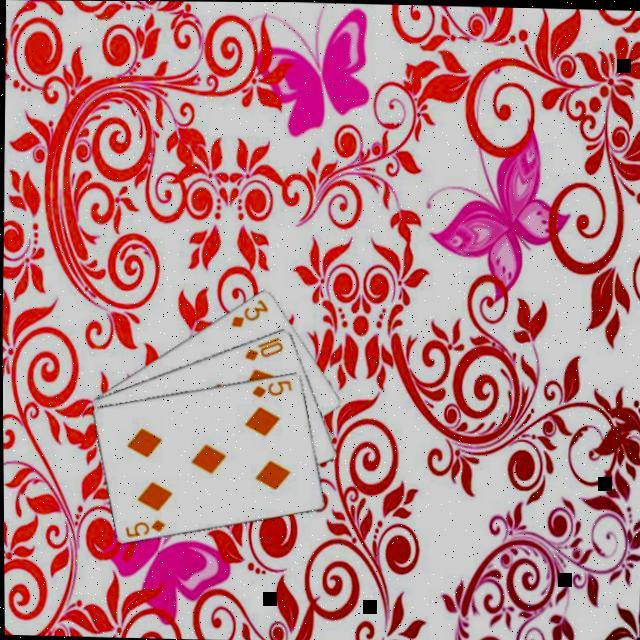10D: (239, 331, 285, 362)
3D: (226, 294, 270, 328)
5D: (120, 514, 166, 540), (247, 374, 292, 399)
